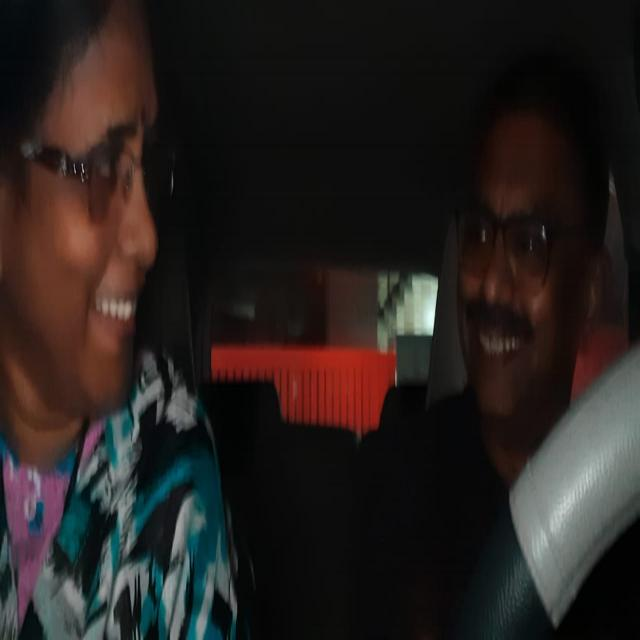LeftRight: (447, 42, 610, 468)
person: (1, 6, 180, 433)
talking: (466, 292, 531, 386), (94, 287, 153, 354)
